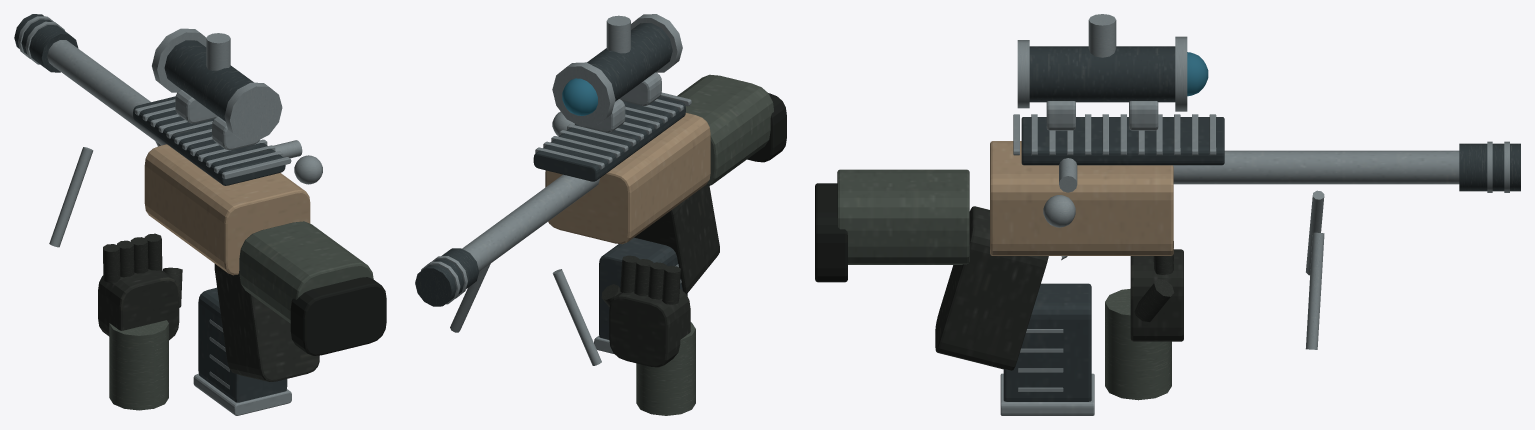
Rendered from sniper.glb.
3 renders of one model, left to right at view 1: azimuth 30°, elevation 25°; view 2: azimuth 150°, elevation 25°; view 3: azimuth 270°, elevation 25°, orthographic. The views are drawn at different scales.
Parts seen in each view (by area): view 1: first-person-sniper; view 2: first-person-sniper; view 3: first-person-sniper.
Boxes of the visible parts, bbox=[...] form: first-person-sniper: bbox=[14, 14, 386, 415]; first-person-sniper: bbox=[415, 14, 786, 415]; first-person-sniper: bbox=[815, 14, 1520, 415].
Size of the model in its own units: 0.6553 by 1.29 by 2.06.
Materials: 7 (5 with a texture image).
